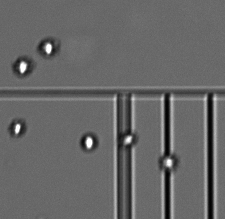Living Cell: (37, 36, 58, 58), (13, 55, 34, 76), (79, 131, 98, 153), (118, 129, 138, 149), (8, 118, 26, 138), (159, 153, 178, 171)
